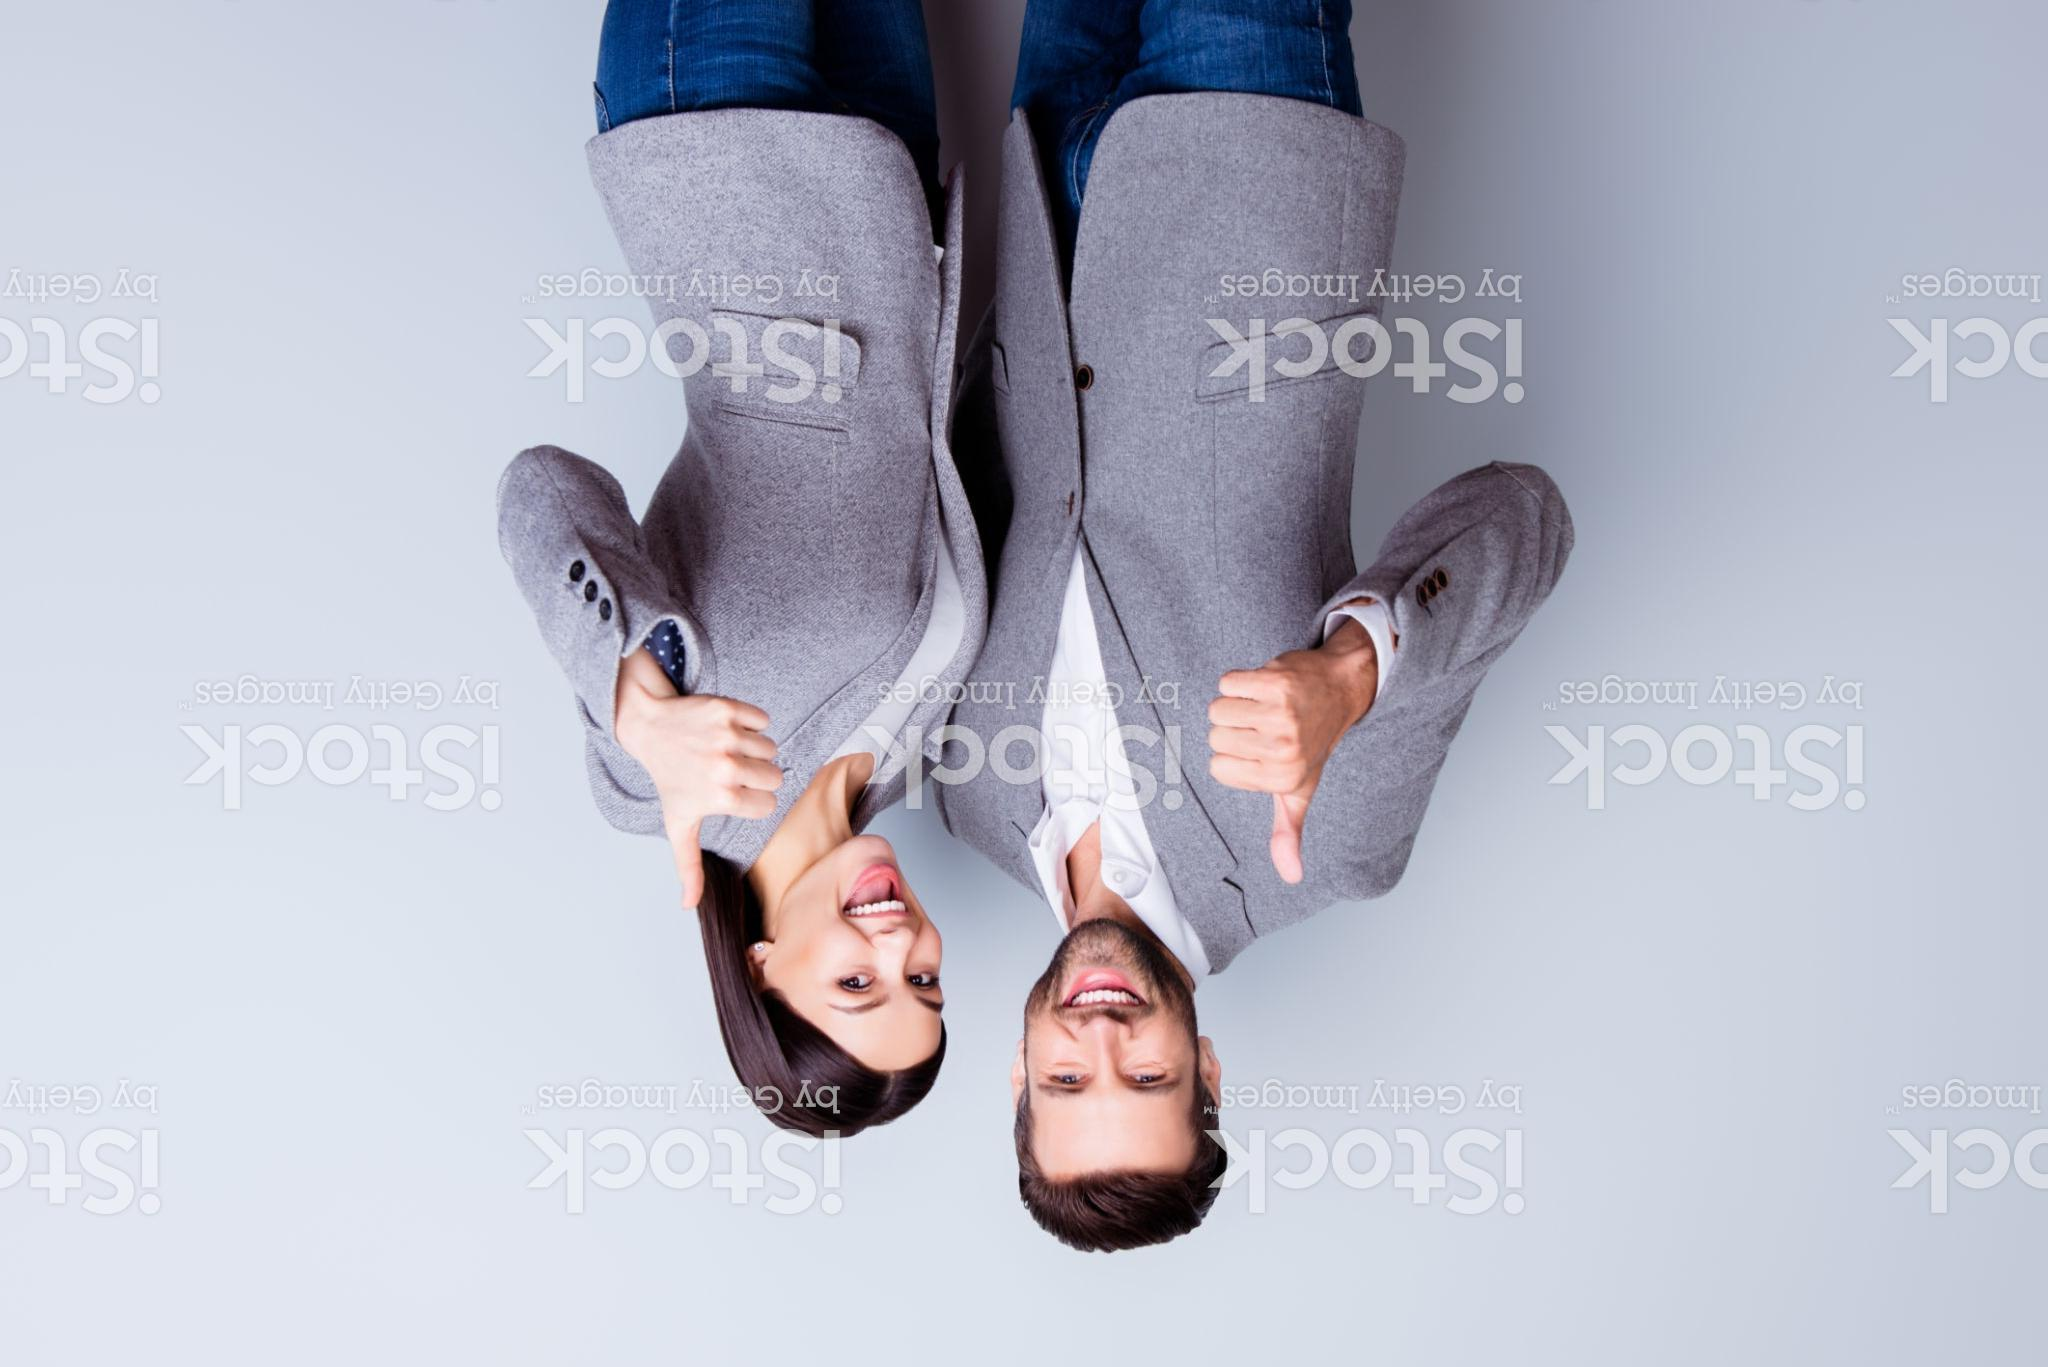thumbsdown: (1205, 655, 1331, 889), (660, 691, 785, 911)
